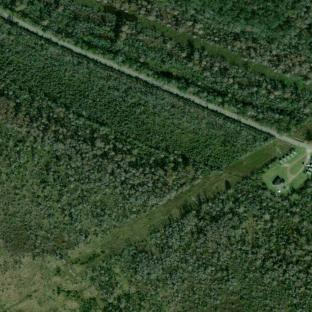Floresta: (0, 68, 205, 218), (130, 161, 312, 288), (73, 38, 292, 135), (95, 0, 312, 82), (117, 15, 311, 104), (22, 1, 62, 23)
